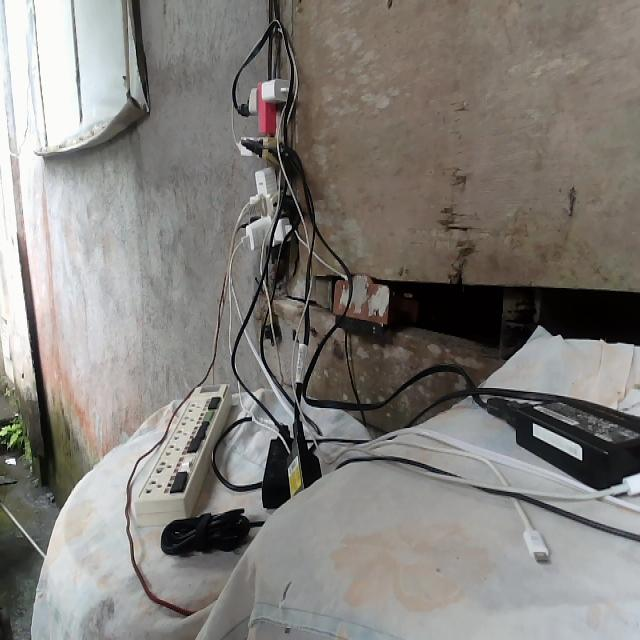-: (238, 74, 304, 254)
